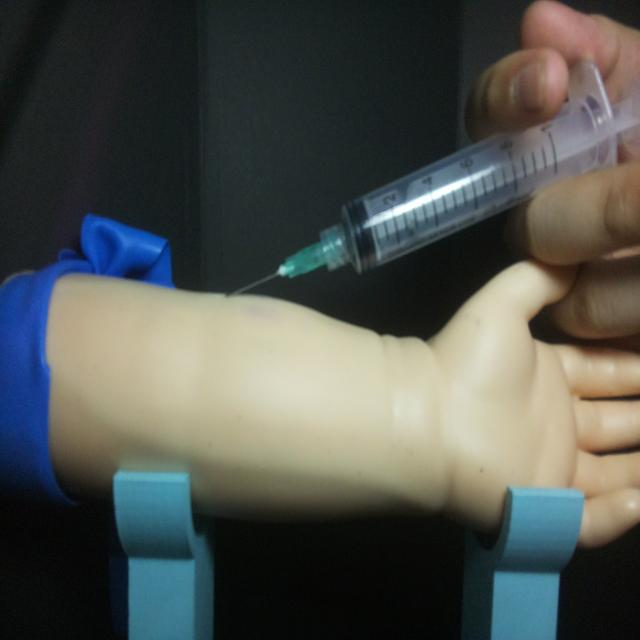20deg: (222, 55, 630, 301)
